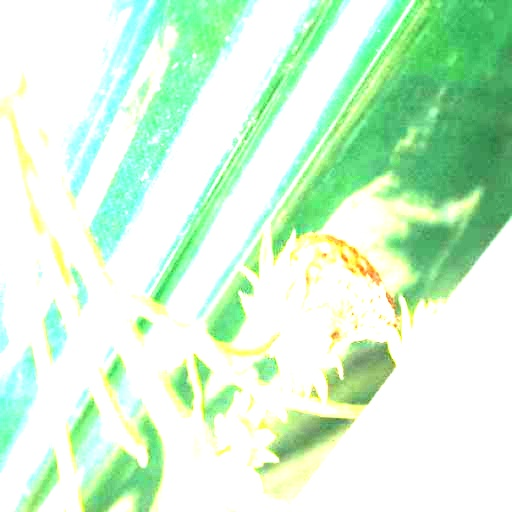Gray Mold: (236, 221, 401, 405)
